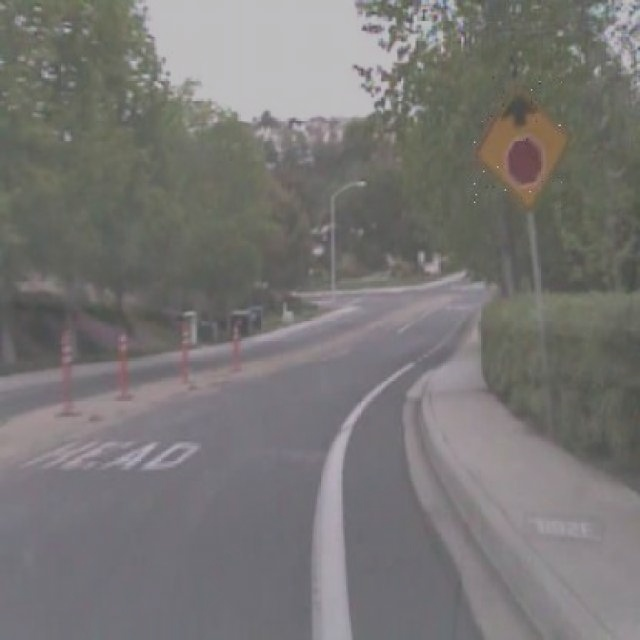stopAhead: (474, 77, 571, 210)
